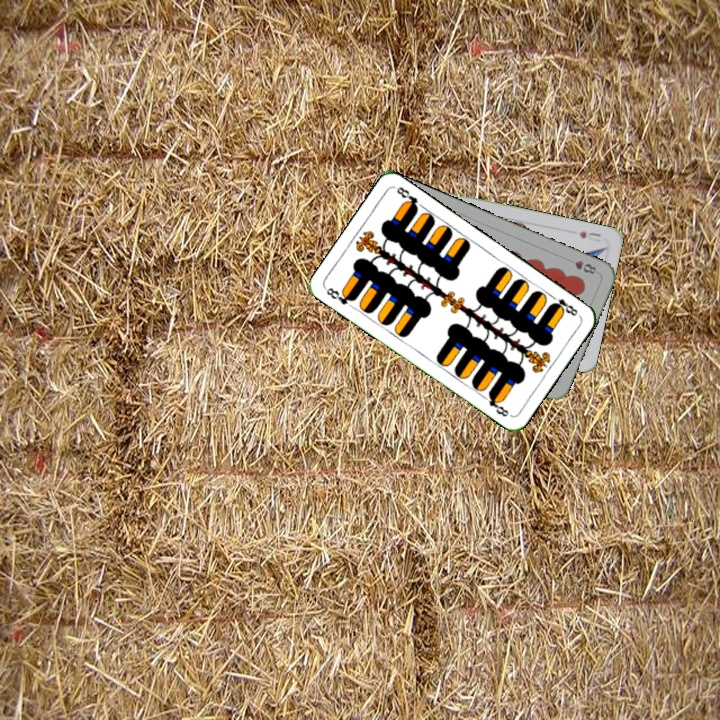E8: (546, 291, 580, 319), (322, 284, 358, 307)
H8: (562, 254, 599, 277)
HU: (574, 227, 603, 244)
